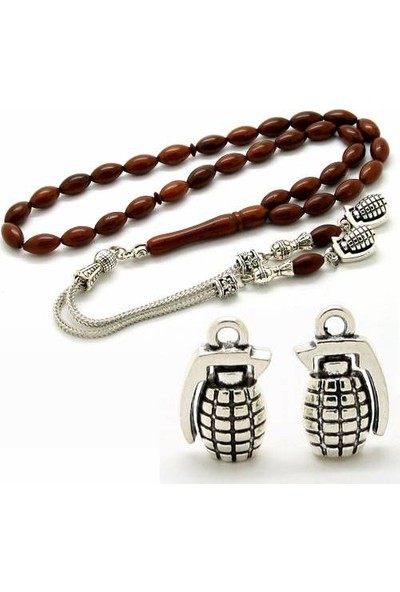e1: (180, 318, 269, 465), (307, 312, 391, 464)
